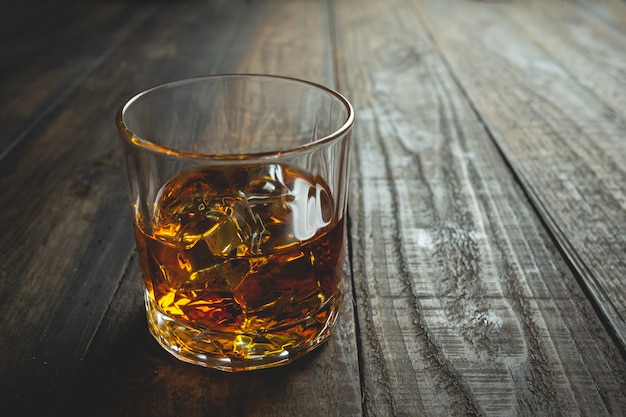alcohol: (115, 72, 357, 376)
